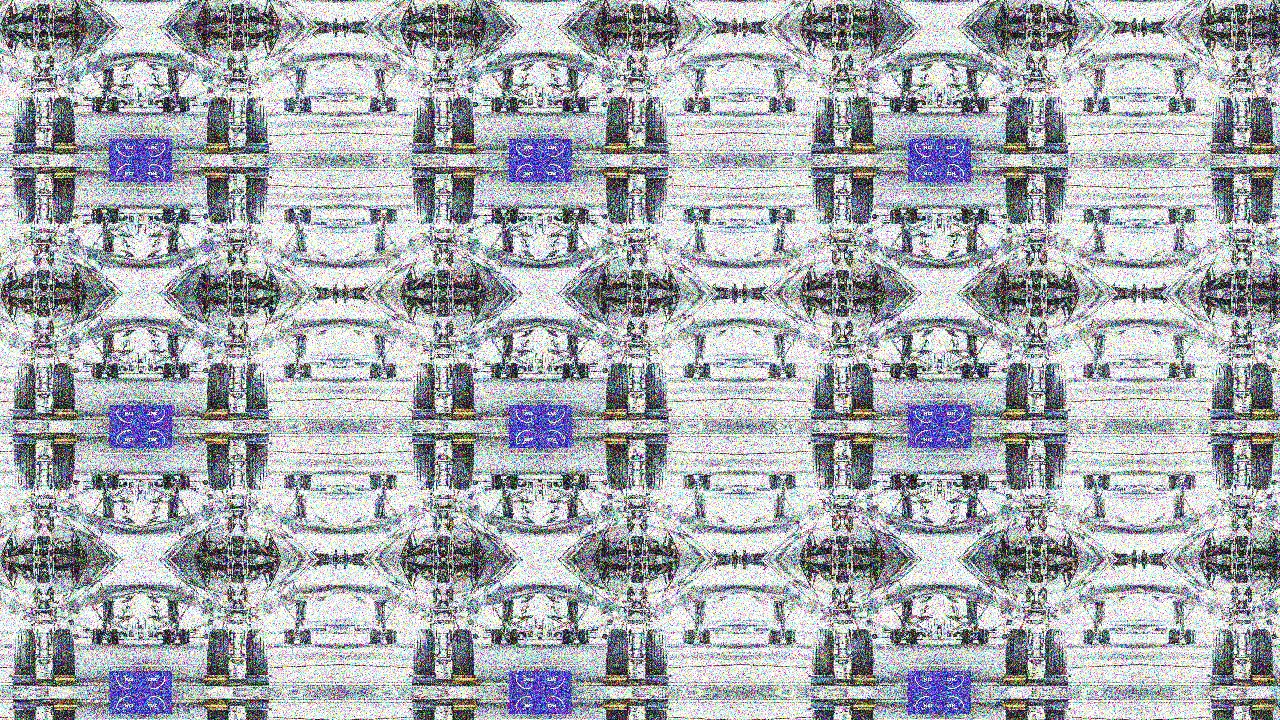chock: (52, 141, 77, 153), (203, 141, 228, 153), (452, 141, 477, 153), (603, 141, 628, 153), (852, 141, 877, 153), (1003, 141, 1028, 153), (1252, 141, 1277, 153), (52, 167, 77, 179), (203, 167, 228, 179), (452, 167, 477, 179), (603, 167, 628, 179), (852, 167, 877, 179), (1003, 167, 1028, 179), (1252, 167, 1277, 179), (11, 434, 34, 446), (246, 434, 269, 446), (411, 434, 434, 446), (646, 434, 669, 446), (811, 434, 834, 446), (1046, 434, 1069, 446), (1211, 434, 1234, 446), (11, 674, 34, 686), (246, 674, 269, 686), (411, 674, 434, 686), (646, 674, 669, 686), (811, 674, 834, 686), (1046, 674, 1069, 686), (1211, 674, 1234, 686), (52, 408, 77, 419), (203, 408, 228, 419), (452, 408, 477, 419), (603, 408, 628, 419), (852, 408, 877, 419), (1003, 408, 1028, 419), (1252, 408, 1277, 419), (52, 434, 77, 445), (203, 434, 228, 445), (452, 434, 477, 445), (603, 434, 628, 445), (852, 434, 877, 445), (1003, 434, 1028, 445), (1252, 434, 1277, 445), (52, 675, 77, 686), (203, 675, 228, 686), (452, 675, 477, 686), (603, 675, 628, 686), (852, 675, 877, 686), (1003, 675, 1028, 686), (1252, 675, 1277, 686), (52, 701, 77, 712), (203, 701, 228, 712), (452, 701, 477, 712), (603, 701, 628, 712), (852, 701, 877, 712), (1003, 701, 1028, 712), (1252, 701, 1277, 712), (11, 141, 34, 152), (246, 141, 269, 152), (411, 141, 434, 152), (646, 141, 669, 152), (811, 141, 834, 152), (1046, 141, 1069, 152), (1211, 141, 1234, 152), (11, 168, 34, 179), (246, 168, 269, 179), (411, 168, 434, 179), (646, 168, 669, 179), (811, 168, 834, 179), (1046, 168, 1069, 179), (1211, 168, 1234, 179), (11, 408, 34, 419), (246, 408, 269, 419), (411, 408, 434, 419), (646, 408, 669, 419), (811, 408, 834, 419), (1046, 408, 1069, 419), (1211, 408, 1234, 419), (11, 701, 34, 712), (246, 701, 269, 712), (411, 701, 434, 712), (646, 701, 669, 712), (811, 701, 834, 712), (1046, 701, 1069, 712), (1211, 701, 1234, 712), (303, 474, 312, 478), (368, 474, 377, 478), (703, 474, 712, 478), (768, 474, 777, 478), (1103, 474, 1112, 478), (1168, 474, 1177, 478), (303, 642, 312, 646), (368, 642, 377, 646), (703, 642, 712, 646), (768, 642, 777, 646), (1103, 642, 1112, 646), (1168, 642, 1177, 646), (110, 109, 119, 112), (161, 109, 170, 112), (303, 109, 312, 112), (510, 109, 519, 112), (368, 109, 377, 112), (561, 109, 570, 112), (703, 109, 712, 112), (910, 109, 919, 112), (768, 109, 777, 112), (961, 109, 970, 112), (1103, 109, 1112, 112), (1168, 109, 1177, 112), (110, 208, 119, 211), (161, 208, 170, 211), (303, 208, 312, 211), (510, 208, 519, 211), (368, 208, 377, 211), (561, 208, 570, 211), (703, 208, 712, 211), (910, 208, 919, 211), (768, 208, 777, 211), (961, 208, 970, 211), (1103, 208, 1112, 211), (1168, 208, 1177, 211), (110, 376, 119, 379), (161, 376, 170, 379), (303, 376, 312, 379), (510, 376, 519, 379), (368, 376, 377, 379), (561, 376, 570, 379), (703, 376, 712, 379), (910, 376, 919, 379), (768, 376, 777, 379), (961, 376, 970, 379), (1103, 376, 1112, 379), (1168, 376, 1177, 379), (110, 475, 119, 478), (161, 475, 170, 478), (510, 475, 519, 478), (561, 475, 570, 478), (910, 475, 919, 478), (961, 475, 970, 478), (110, 642, 119, 645), (161, 642, 170, 645), (510, 642, 519, 645), (561, 642, 570, 645), (910, 642, 919, 645), (961, 642, 970, 645)
wheel: (12, 96, 35, 152), (245, 96, 268, 152), (412, 96, 435, 152), (645, 96, 668, 152), (812, 96, 835, 152), (1045, 96, 1068, 152), (1212, 96, 1235, 152), (12, 168, 35, 224), (245, 168, 268, 224), (412, 168, 435, 224), (645, 168, 668, 224), (812, 168, 835, 224), (1045, 168, 1068, 224), (1212, 168, 1235, 224), (12, 435, 35, 491), (245, 435, 268, 491), (412, 435, 435, 491), (645, 435, 668, 491), (812, 435, 835, 491), (1045, 435, 1068, 491), (1212, 435, 1235, 491), (12, 629, 35, 685), (245, 629, 268, 685), (412, 629, 435, 685), (645, 629, 668, 685), (812, 629, 835, 685), (1045, 629, 1068, 685), (1212, 629, 1235, 685), (12, 363, 35, 418), (245, 363, 268, 418), (412, 363, 435, 418), (645, 363, 668, 418), (812, 363, 835, 418), (1045, 363, 1068, 418), (1212, 363, 1235, 418), (52, 96, 75, 147), (205, 96, 228, 147), (452, 96, 475, 147), (605, 96, 628, 147), (852, 96, 875, 147), (1005, 96, 1028, 147), (1252, 96, 1275, 147), (52, 173, 75, 224), (205, 173, 228, 224), (452, 173, 475, 224), (605, 173, 628, 224), (852, 173, 875, 224), (1005, 173, 1028, 224), (1252, 173, 1275, 224), (52, 363, 75, 414), (205, 363, 228, 414), (452, 363, 475, 414), (605, 363, 628, 414), (852, 363, 875, 414), (1005, 363, 1028, 414), (1252, 363, 1275, 414), (52, 440, 75, 490), (205, 440, 228, 490), (452, 440, 475, 490), (605, 440, 628, 490), (852, 440, 875, 490), (1005, 440, 1028, 490), (1252, 440, 1275, 490), (52, 630, 75, 680), (205, 630, 228, 680), (452, 630, 475, 680), (605, 630, 628, 680), (852, 630, 875, 680), (1005, 630, 1028, 680), (1252, 630, 1275, 680), (12, 702, 35, 720), (245, 702, 268, 720), (412, 702, 435, 720), (645, 702, 668, 720), (812, 702, 835, 720), (1045, 702, 1068, 720), (1212, 702, 1235, 720), (52, 706, 75, 720), (205, 706, 228, 720), (452, 706, 475, 720), (605, 706, 628, 720), (852, 706, 875, 720), (1005, 706, 1028, 720), (1252, 706, 1275, 720), (106, 362, 118, 378), (162, 362, 174, 378), (506, 362, 518, 378), (562, 362, 574, 378), (906, 362, 918, 378), (962, 362, 974, 378), (106, 96, 118, 111), (162, 96, 174, 111), (506, 96, 518, 111), (562, 96, 574, 111), (906, 96, 918, 111), (962, 96, 974, 111), (106, 209, 118, 224), (162, 209, 174, 224), (506, 209, 518, 224), (562, 209, 574, 224), (906, 209, 918, 224), (962, 209, 974, 224), (106, 476, 118, 491), (162, 476, 174, 491), (506, 476, 518, 491), (562, 476, 574, 491), (906, 476, 918, 491), (962, 476, 974, 491), (106, 629, 118, 644), (162, 629, 174, 644), (506, 629, 518, 644), (562, 629, 574, 644), (906, 629, 918, 644), (962, 629, 974, 644), (91, 362, 102, 378), (178, 362, 189, 378), (491, 362, 502, 378), (578, 362, 589, 378), (891, 362, 902, 378), (978, 362, 989, 378), (91, 96, 102, 111), (178, 96, 189, 111), (491, 96, 502, 111), (578, 96, 589, 111), (891, 96, 902, 111), (978, 96, 989, 111), (91, 209, 102, 224), (178, 209, 189, 224), (491, 209, 502, 224), (578, 209, 589, 224), (891, 209, 902, 224), (978, 209, 989, 224), (91, 476, 102, 491), (178, 476, 189, 491), (491, 476, 502, 491), (578, 476, 589, 491), (891, 476, 902, 491), (978, 476, 989, 491), (91, 629, 102, 644), (178, 629, 189, 644), (491, 629, 502, 644), (578, 629, 589, 644), (891, 629, 902, 644), (978, 629, 989, 644), (300, 475, 310, 491), (370, 475, 380, 491), (700, 475, 710, 491), (770, 475, 780, 491), (1100, 475, 1110, 491), (1170, 475, 1180, 491), (300, 629, 310, 645), (370, 629, 380, 645), (700, 629, 710, 645), (770, 629, 780, 645), (1100, 629, 1110, 645), (1170, 629, 1180, 645), (300, 96, 310, 111), (283, 96, 293, 111), (370, 96, 380, 111), (387, 96, 397, 111), (700, 96, 710, 111), (683, 96, 693, 111), (770, 96, 780, 111), (787, 96, 797, 111), (1100, 96, 1110, 111), (1083, 96, 1093, 111), (1170, 96, 1180, 111), (1187, 96, 1197, 111), (300, 209, 310, 224), (283, 209, 293, 224), (370, 209, 380, 224), (387, 209, 397, 224), (700, 209, 710, 224), (683, 209, 693, 224), (770, 209, 780, 224), (787, 209, 797, 224), (1100, 209, 1110, 224), (1083, 209, 1093, 224), (1170, 209, 1180, 224), (1187, 209, 1197, 224), (300, 363, 310, 378), (283, 363, 293, 378), (370, 363, 380, 378), (387, 363, 397, 378), (700, 363, 710, 378), (683, 363, 693, 378), (770, 363, 780, 378), (787, 363, 797, 378), (1100, 363, 1110, 378), (1083, 363, 1093, 378), (1170, 363, 1180, 378), (1187, 363, 1197, 378), (283, 476, 293, 491), (387, 476, 397, 491), (683, 476, 693, 491), (787, 476, 797, 491), (1083, 476, 1093, 491), (1187, 476, 1197, 491), (283, 629, 293, 644), (387, 629, 397, 644), (683, 629, 693, 644), (787, 629, 797, 644), (1083, 629, 1093, 644), (1187, 629, 1197, 644), (298, 97, 304, 111), (376, 97, 382, 111), (698, 97, 704, 111), (776, 97, 782, 111), (1098, 97, 1104, 111), (1176, 97, 1182, 111), (298, 209, 304, 223), (376, 209, 382, 223), (698, 209, 704, 223), (776, 209, 782, 223), (1098, 209, 1104, 223), (1176, 209, 1182, 223), (298, 476, 304, 490), (376, 476, 382, 490), (698, 476, 704, 490), (776, 476, 782, 490), (1098, 476, 1104, 490), (1176, 476, 1182, 490), (298, 630, 304, 644), (376, 630, 382, 644), (698, 630, 704, 644), (776, 630, 782, 644), (1098, 630, 1104, 644), (1176, 630, 1182, 644), (298, 364, 304, 377), (376, 364, 382, 377), (698, 364, 704, 377), (776, 364, 782, 377), (1098, 364, 1104, 377), (1176, 364, 1182, 377), (117, 99, 126, 107), (154, 99, 163, 107), (517, 99, 526, 107), (554, 99, 563, 107), (917, 99, 926, 107), (954, 99, 963, 107), (117, 213, 126, 221), (154, 213, 163, 221), (517, 213, 526, 221), (554, 213, 563, 221), (917, 213, 926, 221), (954, 213, 963, 221), (117, 366, 126, 374), (154, 366, 163, 374), (517, 366, 526, 374), (554, 366, 563, 374), (917, 366, 926, 374), (954, 366, 963, 374), (117, 480, 126, 488), (154, 480, 163, 488), (517, 480, 526, 488), (554, 480, 563, 488), (917, 480, 926, 488), (954, 480, 963, 488), (117, 632, 126, 640), (154, 632, 163, 640), (517, 632, 526, 640), (554, 632, 563, 640), (917, 632, 926, 640), (954, 632, 963, 640), (90, 96, 95, 110), (283, 96, 288, 110), (185, 96, 190, 110), (392, 96, 397, 110), (490, 96, 495, 110), (683, 96, 688, 110), (585, 96, 590, 110), (792, 96, 797, 110), (890, 96, 895, 110), (1083, 96, 1088, 110), (985, 96, 990, 110), (1192, 96, 1197, 110), (90, 210, 95, 224), (283, 210, 288, 224), (185, 210, 190, 224), (392, 210, 397, 224), (490, 210, 495, 224), (683, 210, 688, 224), (585, 210, 590, 224), (792, 210, 797, 224), (890, 210, 895, 224), (1083, 210, 1088, 224), (985, 210, 990, 224), (1192, 210, 1197, 224), (90, 363, 95, 377), (106, 363, 111, 377), (283, 363, 288, 377), (185, 363, 190, 377), (169, 363, 174, 377), (392, 363, 397, 377), (490, 363, 495, 377), (506, 363, 511, 377), (683, 363, 688, 377), (585, 363, 590, 377), (569, 363, 574, 377), (792, 363, 797, 377), (890, 363, 895, 377), (906, 363, 911, 377), (1083, 363, 1088, 377), (985, 363, 990, 377), (969, 363, 974, 377), (1192, 363, 1197, 377), (90, 476, 95, 490), (106, 476, 111, 490), (283, 476, 288, 490), (185, 476, 190, 490), (169, 476, 174, 490), (392, 476, 397, 490), (490, 476, 495, 490), (506, 476, 511, 490), (683, 476, 688, 490), (585, 476, 590, 490), (569, 476, 574, 490), (792, 476, 797, 490), (890, 476, 895, 490), (906, 476, 911, 490), (1083, 476, 1088, 490), (985, 476, 990, 490), (969, 476, 974, 490), (1192, 476, 1197, 490), (90, 630, 95, 644), (106, 630, 111, 644), (283, 630, 288, 644), (185, 630, 190, 644), (169, 630, 174, 644), (392, 630, 397, 644), (490, 630, 495, 644), (506, 630, 511, 644), (683, 630, 688, 644), (585, 630, 590, 644), (569, 630, 574, 644), (792, 630, 797, 644), (890, 630, 895, 644), (906, 630, 911, 644), (1083, 630, 1088, 644), (985, 630, 990, 644), (969, 630, 974, 644), (1192, 630, 1197, 644), (106, 97, 111, 110), (169, 97, 174, 110), (506, 97, 511, 110), (569, 97, 574, 110), (906, 97, 911, 110), (969, 97, 974, 110), (106, 210, 111, 223), (169, 210, 174, 223), (506, 210, 511, 223), (569, 210, 574, 223), (906, 210, 911, 223), (969, 210, 974, 223), (48, 96, 52, 112), (228, 96, 232, 112), (448, 96, 452, 112), (628, 96, 632, 112), (848, 96, 852, 112), (1028, 96, 1032, 112), (1248, 96, 1252, 112), (48, 208, 52, 224), (228, 208, 232, 224), (448, 208, 452, 224), (628, 208, 632, 224), (848, 208, 852, 224), (1028, 208, 1032, 224), (1248, 208, 1252, 224), (48, 475, 52, 491), (35, 475, 39, 491), (228, 475, 232, 491), (241, 475, 245, 491), (448, 475, 452, 491), (435, 475, 439, 491), (628, 475, 632, 491), (641, 475, 645, 491), (848, 475, 852, 491), (835, 475, 839, 491), (1028, 475, 1032, 491), (1041, 475, 1045, 491), (1248, 475, 1252, 491), (1235, 475, 1239, 491), (48, 629, 52, 645), (35, 629, 39, 645), (228, 629, 232, 645), (241, 629, 245, 645), (448, 629, 452, 645), (435, 629, 439, 645), (628, 629, 632, 645), (641, 629, 645, 645), (848, 629, 852, 645), (835, 629, 839, 645), (1028, 629, 1032, 645), (1041, 629, 1045, 645), (1248, 629, 1252, 645), (1235, 629, 1239, 645), (35, 96, 39, 111), (241, 96, 245, 111), (435, 96, 439, 111), (641, 96, 645, 111), (835, 96, 839, 111), (1041, 96, 1045, 111), (1235, 96, 1239, 111), (35, 209, 39, 224), (241, 209, 245, 224), (435, 209, 439, 224), (641, 209, 645, 224), (835, 209, 839, 224), (1041, 209, 1045, 224), (1235, 209, 1239, 224), (48, 363, 52, 378), (35, 363, 39, 378), (228, 363, 232, 378), (241, 363, 245, 378), (448, 363, 452, 378), (435, 363, 439, 378), (628, 363, 632, 378), (641, 363, 645, 378), (848, 363, 852, 378), (835, 363, 839, 378), (1028, 363, 1032, 378), (1041, 363, 1045, 378), (1248, 363, 1252, 378), (1235, 363, 1239, 378), (72, 480, 78, 486), (202, 480, 208, 486), (472, 480, 478, 486), (602, 480, 608, 486), (872, 480, 878, 486), (1002, 480, 1008, 486), (1272, 480, 1278, 486), (72, 634, 78, 640), (202, 634, 208, 640), (472, 634, 478, 640), (602, 634, 608, 640), (872, 634, 878, 640), (1002, 634, 1008, 640), (1272, 634, 1278, 640), (72, 101, 78, 106), (202, 101, 208, 106), (472, 101, 478, 106), (602, 101, 608, 106), (872, 101, 878, 106), (1002, 101, 1008, 106), (1272, 101, 1278, 106), (72, 214, 78, 219), (202, 214, 208, 219), (472, 214, 478, 219), (602, 214, 608, 219), (872, 214, 878, 219), (1002, 214, 1008, 219), (1272, 214, 1278, 219), (72, 368, 78, 373), (202, 368, 208, 373), (472, 368, 478, 373), (602, 368, 608, 373), (872, 368, 878, 373), (1002, 368, 1008, 373), (1272, 368, 1278, 373)
